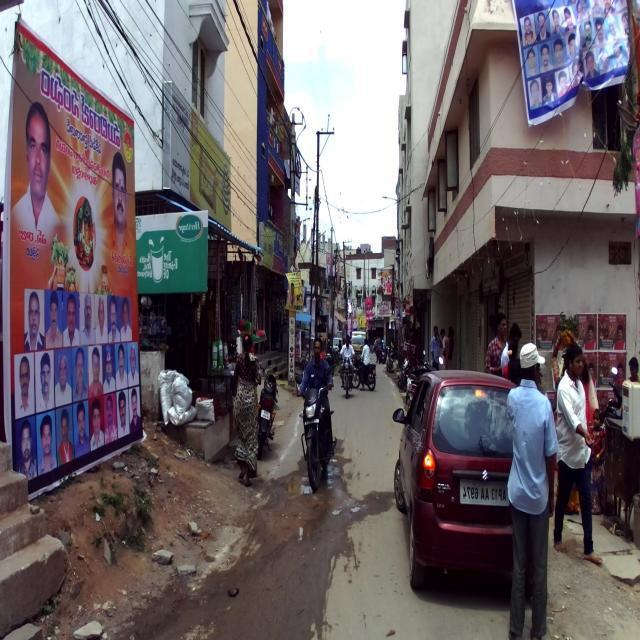Drain Hole: (604, 523, 640, 588)
Pothole: (270, 451, 350, 539)
